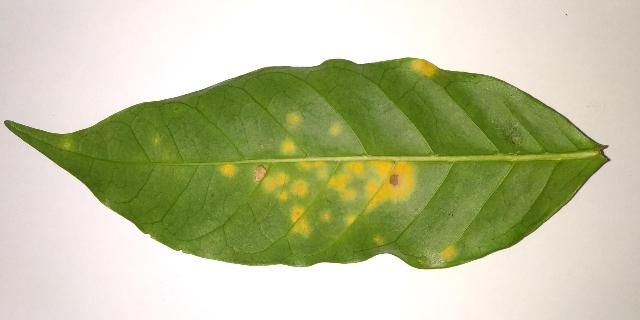cercospora: (296, 160, 416, 213), (254, 165, 309, 201), (290, 204, 310, 236), (411, 58, 439, 77), (440, 245, 456, 261), (220, 162, 236, 177), (328, 122, 343, 136), (282, 140, 296, 153), (288, 113, 300, 125), (345, 214, 357, 225), (321, 212, 331, 221), (374, 236, 383, 244)
